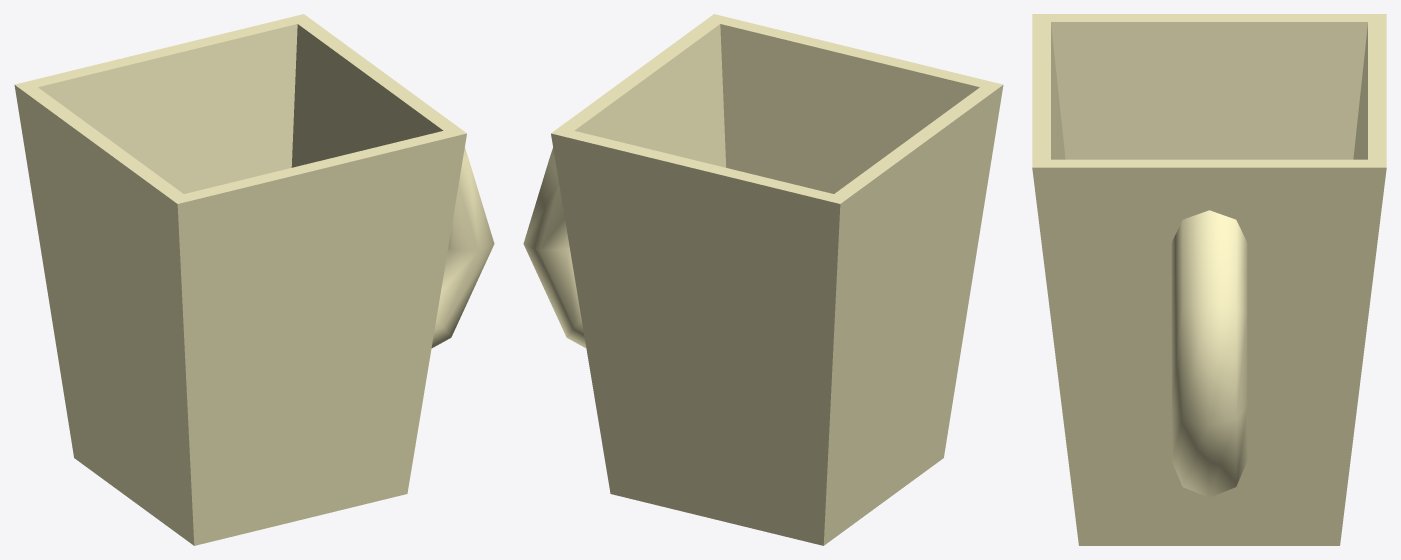
File: Itr_Obj_Cup1_02.FBX
3 views of the same model, side by side, from view 1: azimuth 30°, elevation 25°; view 2: azimuth 150°, elevation 25°; view 3: azimuth 270°, elevation 25° (orthographic). The views are drawn at different scales.
Parts seen in each view (by area): view 1: Itr_Obj_Cup1_02; view 2: Itr_Obj_Cup1_02; view 3: Itr_Obj_Cup1_02.
Boxes of the visible parts, x1,y1,x2,y2 form: Itr_Obj_Cup1_02: (14, 14, 494, 545); Itr_Obj_Cup1_02: (523, 14, 1003, 545); Itr_Obj_Cup1_02: (1032, 14, 1386, 545).
Bounding box in the file's own units: 6.33 × 5.62 × 4.53.
